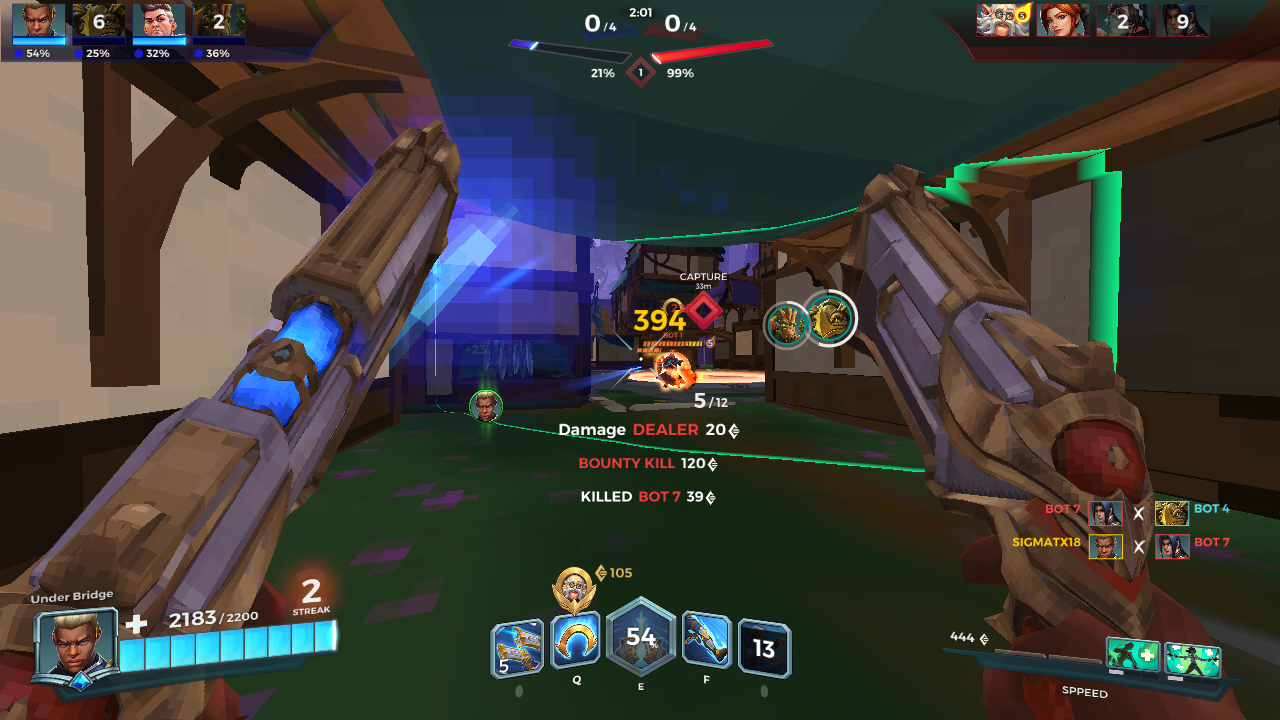model: (653, 347, 691, 395)
